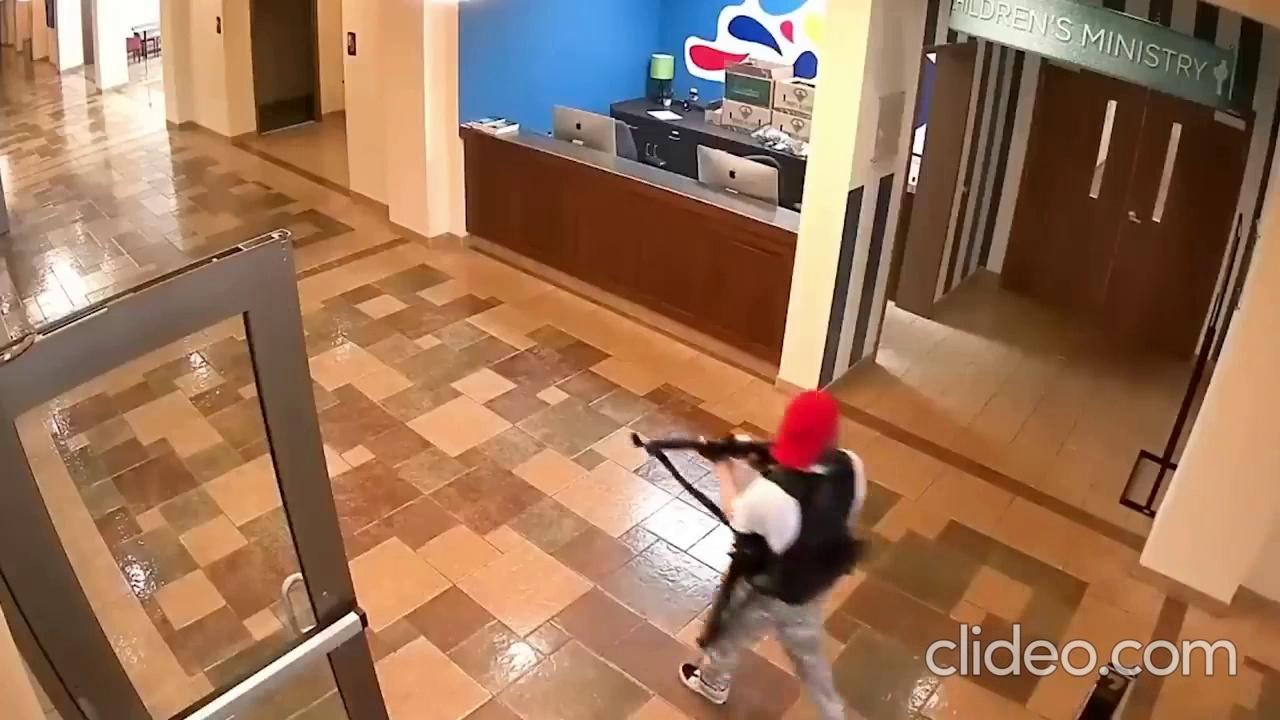person: (678, 388, 867, 720)
rifle: (695, 530, 755, 652)
